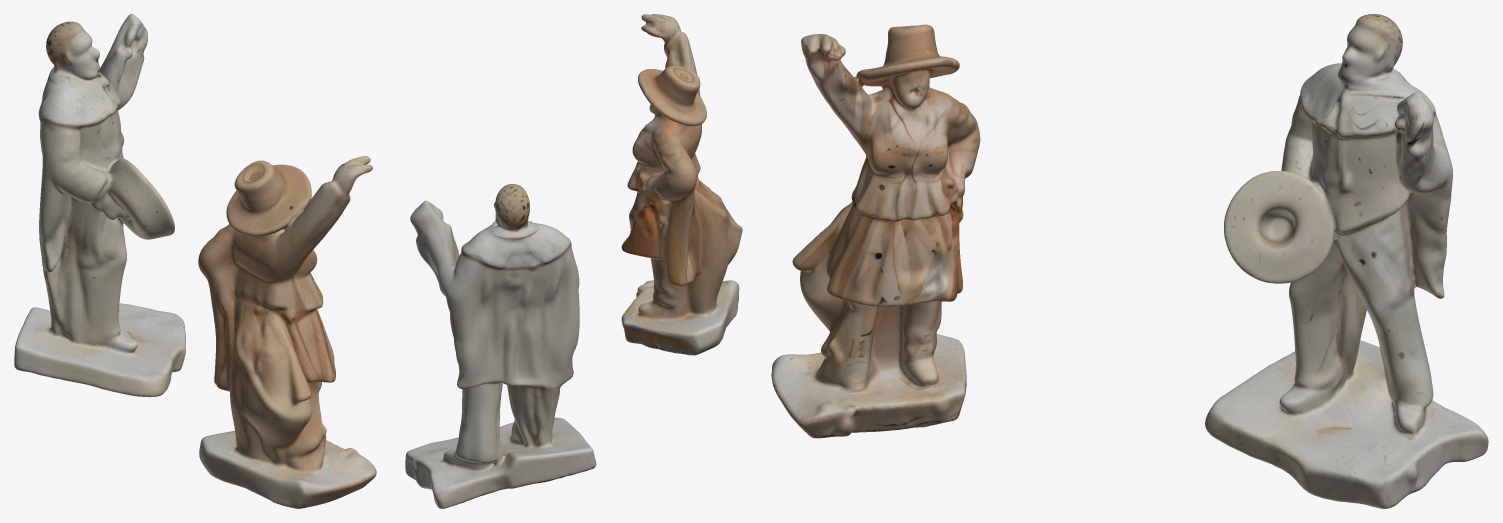
The model's file is sillar_plycam_1.glb.
3 views of the same model, side by side, from view 1: azimuth 30°, elevation 25°; view 2: azimuth 150°, elevation 25°; view 3: azimuth 270°, elevation 25° (orthographic). The views are drawn at different scales.
Visible parts, largest first — view 1: tripo_node_e343015e-d91b-418a-949f-8c482e6b5035; view 2: tripo_node_e343015e-d91b-418a-949f-8c482e6b5035; view 3: tripo_node_e343015e-d91b-418a-949f-8c482e6b5035.
Boxes of the visible parts, x1,y1,x2,y2 form: tripo_node_e343015e-d91b-418a-949f-8c482e6b5035: (14, 14, 376, 508); tripo_node_e343015e-d91b-418a-949f-8c482e6b5035: (405, 14, 742, 508); tripo_node_e343015e-d91b-418a-949f-8c482e6b5035: (771, 14, 1488, 508).
Bounding box in the file's own units: 0.3556 × 0.6514 × 0.949.
Materials: 1 (1 with a texture image).
